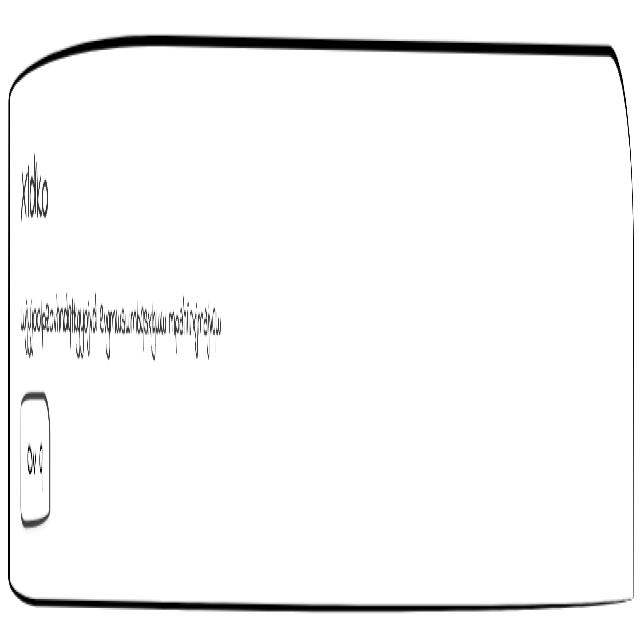Button: (19, 379, 56, 554)
Heading 6: (17, 121, 55, 249)
Paragraph: (17, 284, 244, 370)
